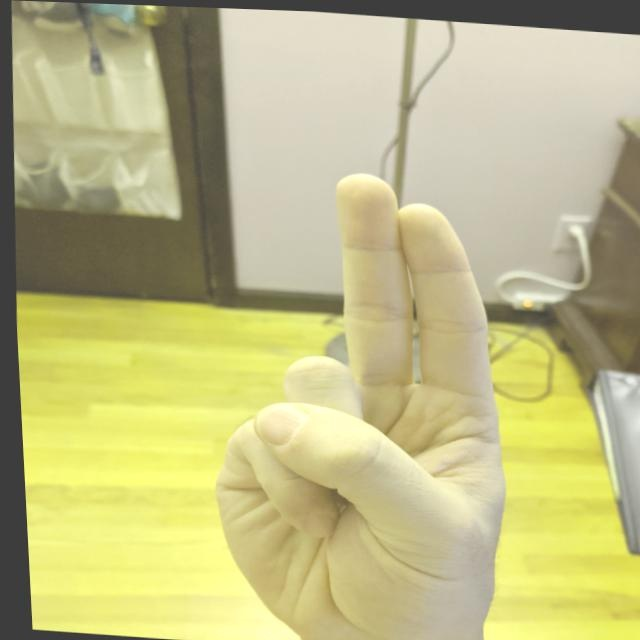U: (181, 151, 532, 639)
